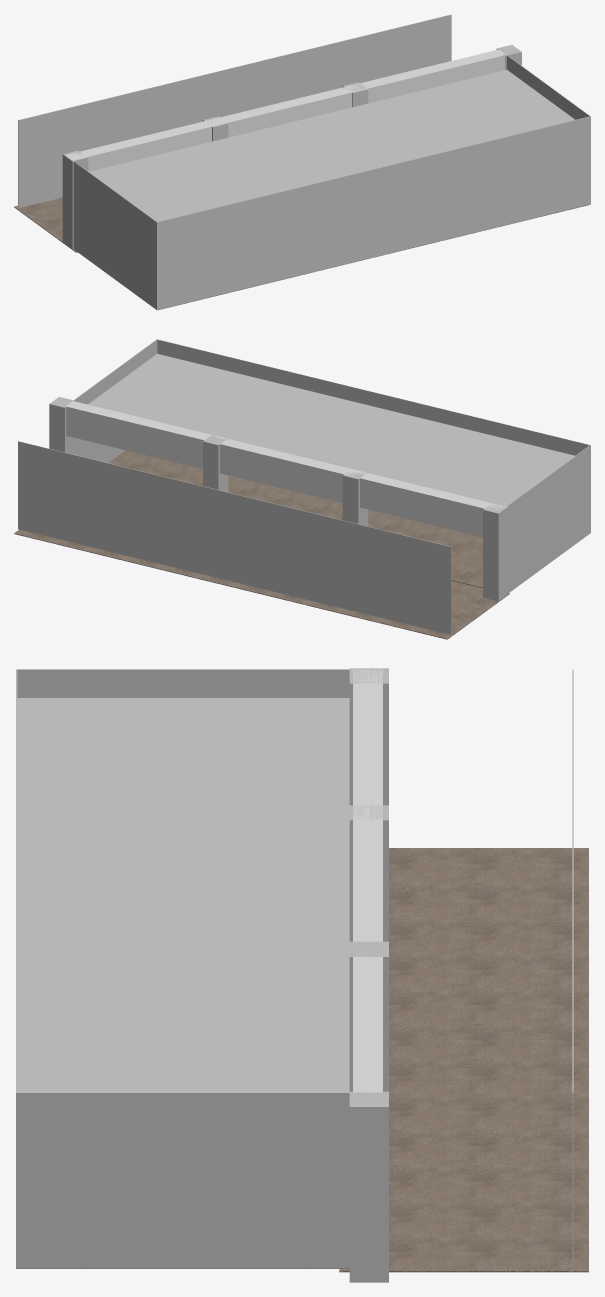
The model's file is NewLab_SuperLowPoly.fbx.
3 renders of one model, top to bottom at view 1: azimuth 30°, elevation 25°; view 2: azimuth 150°, elevation 25°; view 3: azimuth 270°, elevation 25°, orthographic. The views are drawn at different scales.
Visible parts, largest first — view 1: room_10, room_9, room_14, room_6, room_7, room_8, room_12, room_15, room_5, room_3; view 2: room_14, room_9, room_6, room_7, room_5, room_10, room_15, room_12, room_8, room_13, room_11, room_3; view 3: room_9, room_15, room_8, room_6, room_7, room_13, room_3, room_12, room_11, room_14, room_10.
Boxes of the visible parts, <box> form: room_10: <box>157,116,590,309</box>; room_9: <box>89,69,589,236</box>; room_14: <box>18,14,451,208</box>; room_6: <box>66,49,505,171</box>; room_7: <box>73,161,157,309</box>; room_8: <box>507,55,590,204</box>; room_12: <box>62,150,88,249</box>; room_15: <box>14,197,77,252</box>; room_5: <box>157,204,590,310</box>; room_3: <box>343,82,368,107</box>; room_14: <box>18,441,451,634</box>; room_9: <box>88,353,575,505</box>; room_6: <box>66,401,505,537</box>; room_7: <box>507,445,590,592</box>; room_5: <box>109,450,482,588</box>; room_10: <box>157,339,589,455</box>; room_15: <box>14,529,509,639</box>; room_12: <box>483,502,508,601</box>; room_8: <box>74,339,157,462</box>; room_13: <box>49,397,74,454</box>; room_11: <box>342,468,368,526</box>; room_3: <box>203,434,228,492</box>; room_9: <box>17,698,349,1092</box>; room_15: <box>339,848,588,1272</box>; room_8: <box>16,1092,349,1268</box>; room_6: <box>353,669,382,1092</box>; room_7: <box>16,669,349,697</box>; room_13: <box>349,1091,388,1282</box>; room_3: <box>349,941,388,1091</box>; room_12: <box>349,668,388,805</box>; room_11: <box>349,805,388,941</box>; room_14: <box>572,669,573,1268</box>; room_10: <box>16,669,17,1092</box>.
Size of the model in its own units: 15.3 by 2.92 by 8.45.
